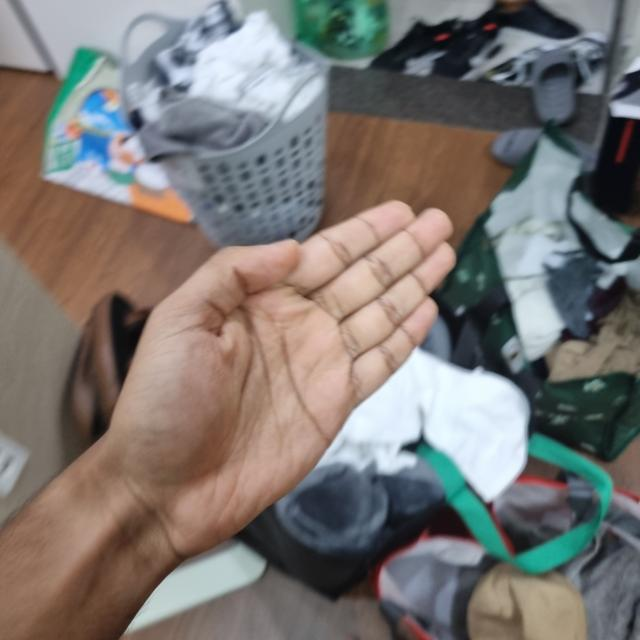Paper: (104, 194, 457, 556)
